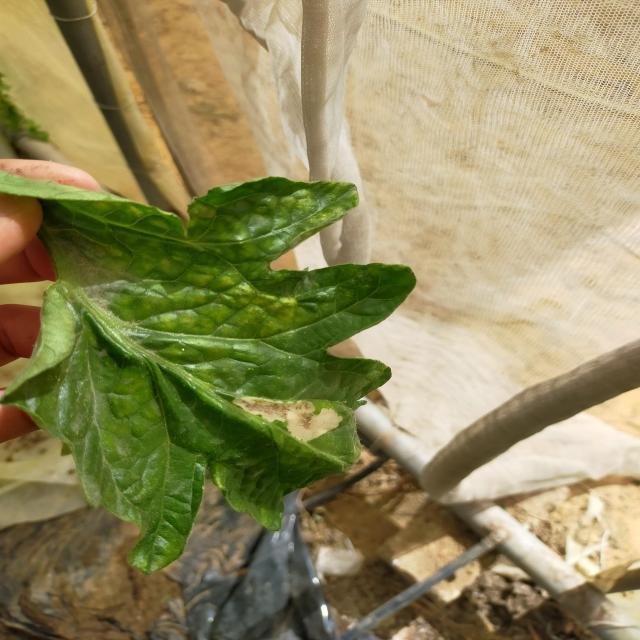Tuta absoluta: (229, 375, 344, 451)
